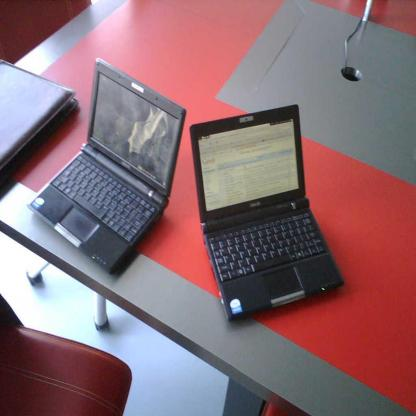board: (29, 60, 186, 276), (191, 108, 339, 324)
